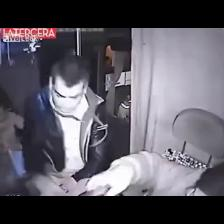person: (21, 56, 111, 195), (87, 152, 223, 195)
